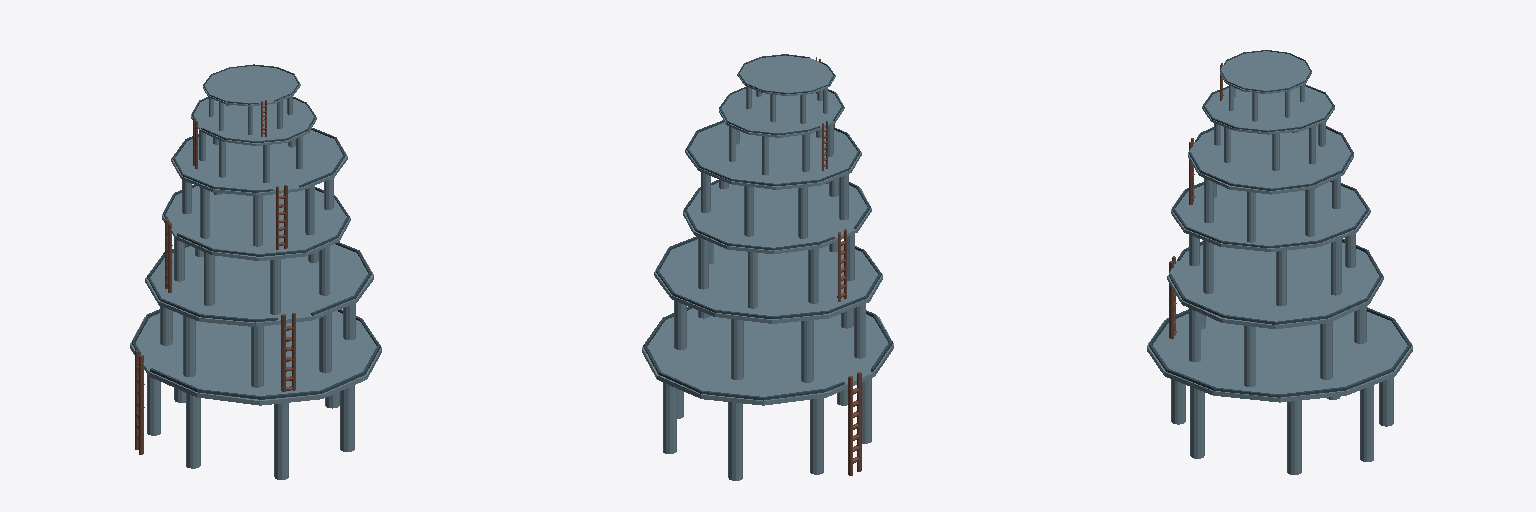
3 renders of one model, left to right at view 1: azimuth 30°, elevation 25°; view 2: azimuth 150°, elevation 25°; view 3: azimuth 270°, elevation 25°, orthographic.
Visible parts, largest first — view 1: group[number redacted], group[number redacted], group[number redacted], group[number redacted], group[number redacted], group[number redacted], group[number redacted]; view 2: group[number redacted], group[number redacted], group[number redacted], group[number redacted], group[number redacted], group[number redacted], group[number redacted]; view 3: group[number redacted], group[number redacted], group[number redacted], group[number redacted], group[number redacted], group[number redacted].
Part boxes in pixels (x1,y1,x2,y2): group[number redacted]: (130, 309, 381, 479); group[number redacted]: (145, 242, 373, 391); group[number redacted]: (162, 185, 350, 314); group[number redacted]: (171, 130, 347, 196); group[number redacted]: (191, 97, 316, 182); group[number redacted]: (203, 64, 300, 136); group[number redacted]: (253, 185, 262, 246); group[number redacted]: (642, 306, 893, 480); group[number redacted]: (654, 236, 882, 382); group[number redacted]: (683, 180, 871, 308); group[number redacted]: (685, 122, 861, 189); group[number redacted]: (719, 87, 844, 175); group[number redacted]: (737, 54, 835, 123); group[number redacted]: (744, 175, 753, 236); group[number redacted]: (1147, 307, 1412, 474); group[number redacted]: (1167, 238, 1383, 386); group[number redacted]: (1171, 181, 1370, 305); group[number redacted]: (1188, 125, 1353, 194); group[number redacted]: (1202, 84, 1334, 170); group[number redacted]: (1220, 50, 1311, 121).
Size of the model in its own units: 1.52 by 2.47 by 1.64.